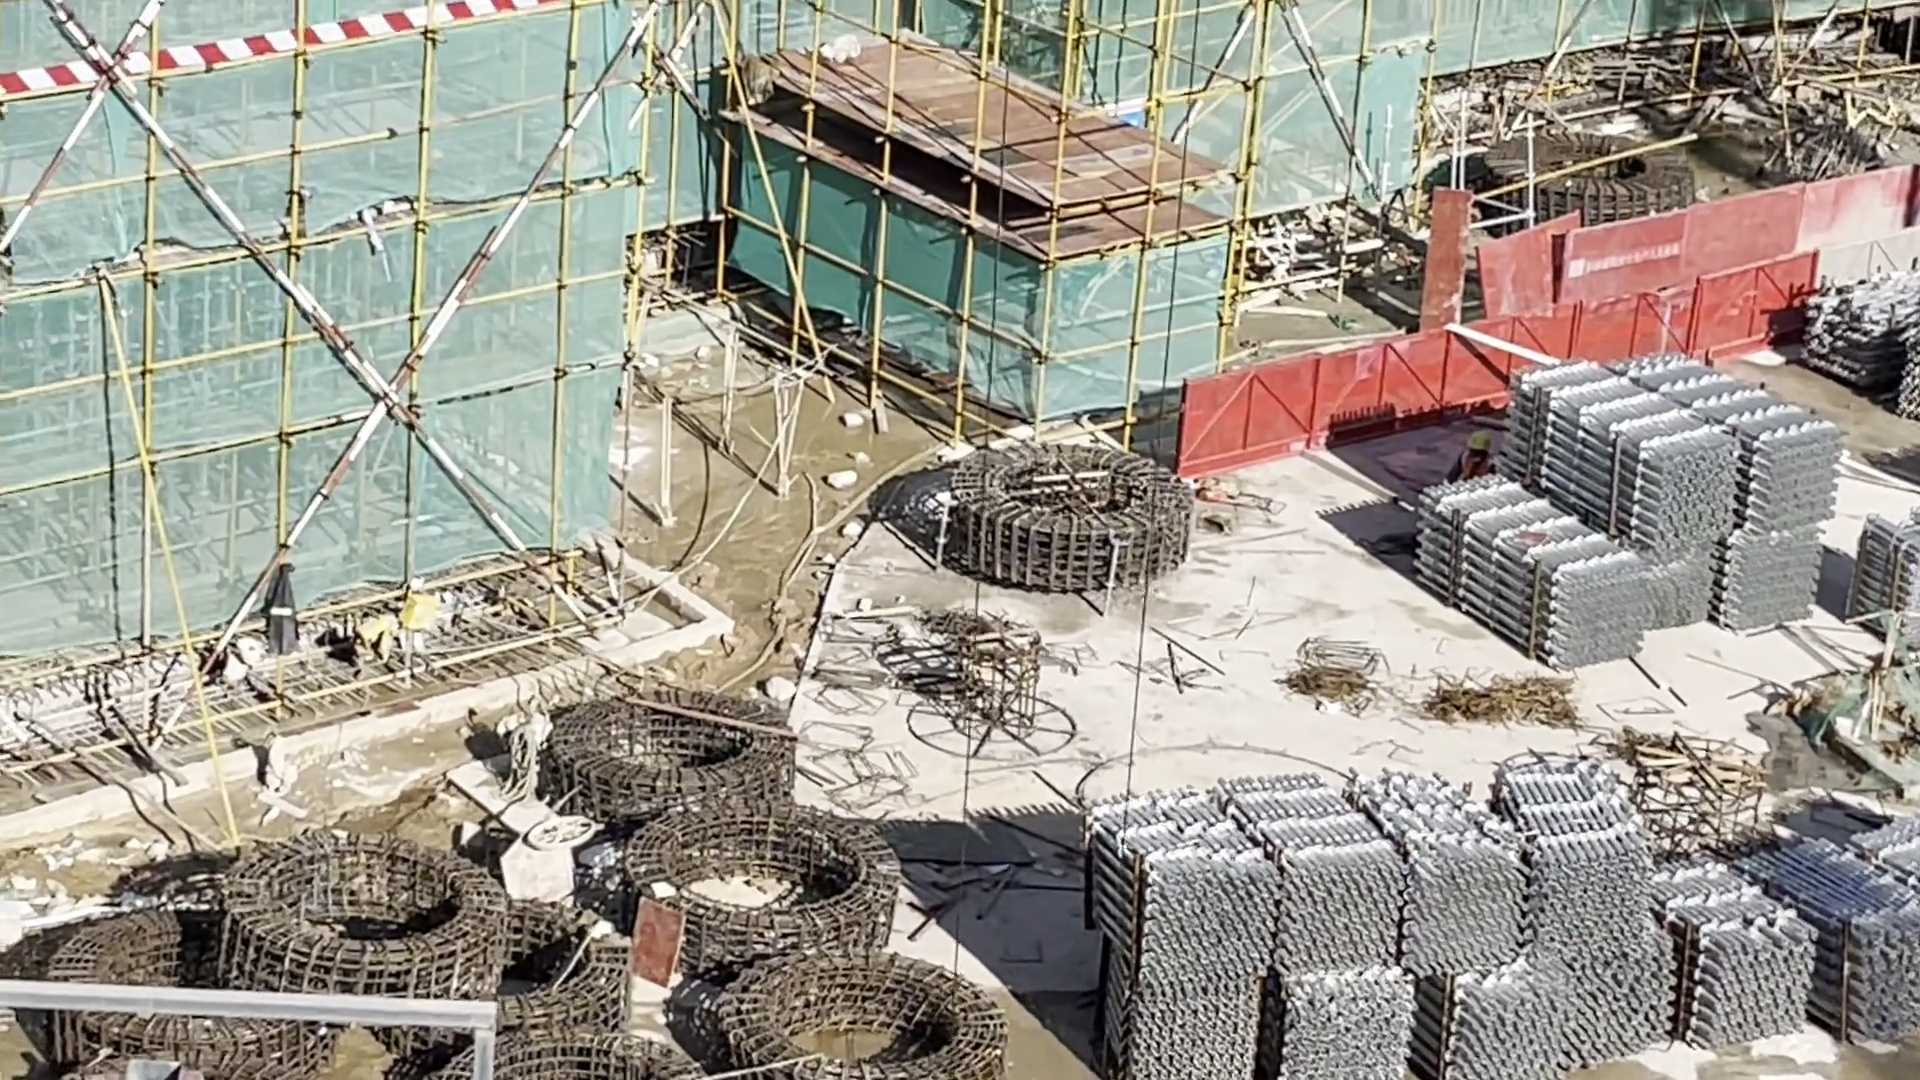fence: (1174, 231, 1920, 472)
helmet: (1468, 422, 1488, 450)
person: (1458, 423, 1493, 495)
scaffold: (1089, 794, 1920, 1080), (1427, 378, 1835, 672), (1809, 267, 1920, 416), (1845, 492, 1920, 632)
